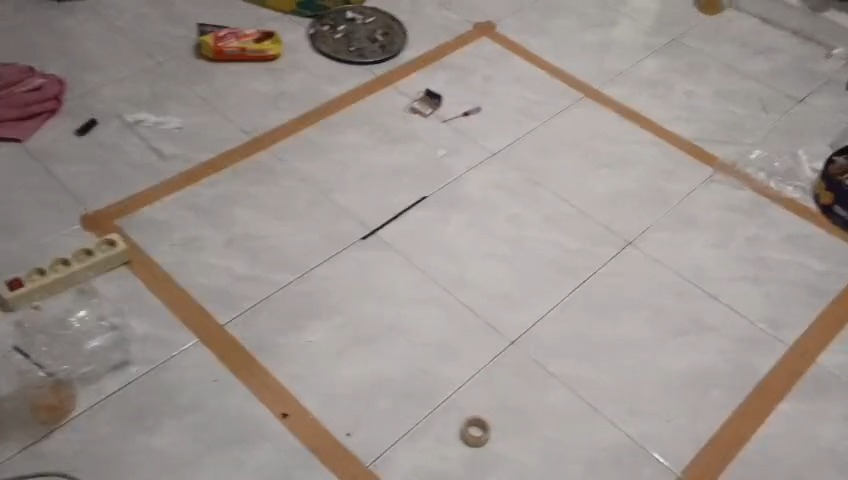floor marking: (81, 22, 847, 479), (684, 286, 847, 479)
